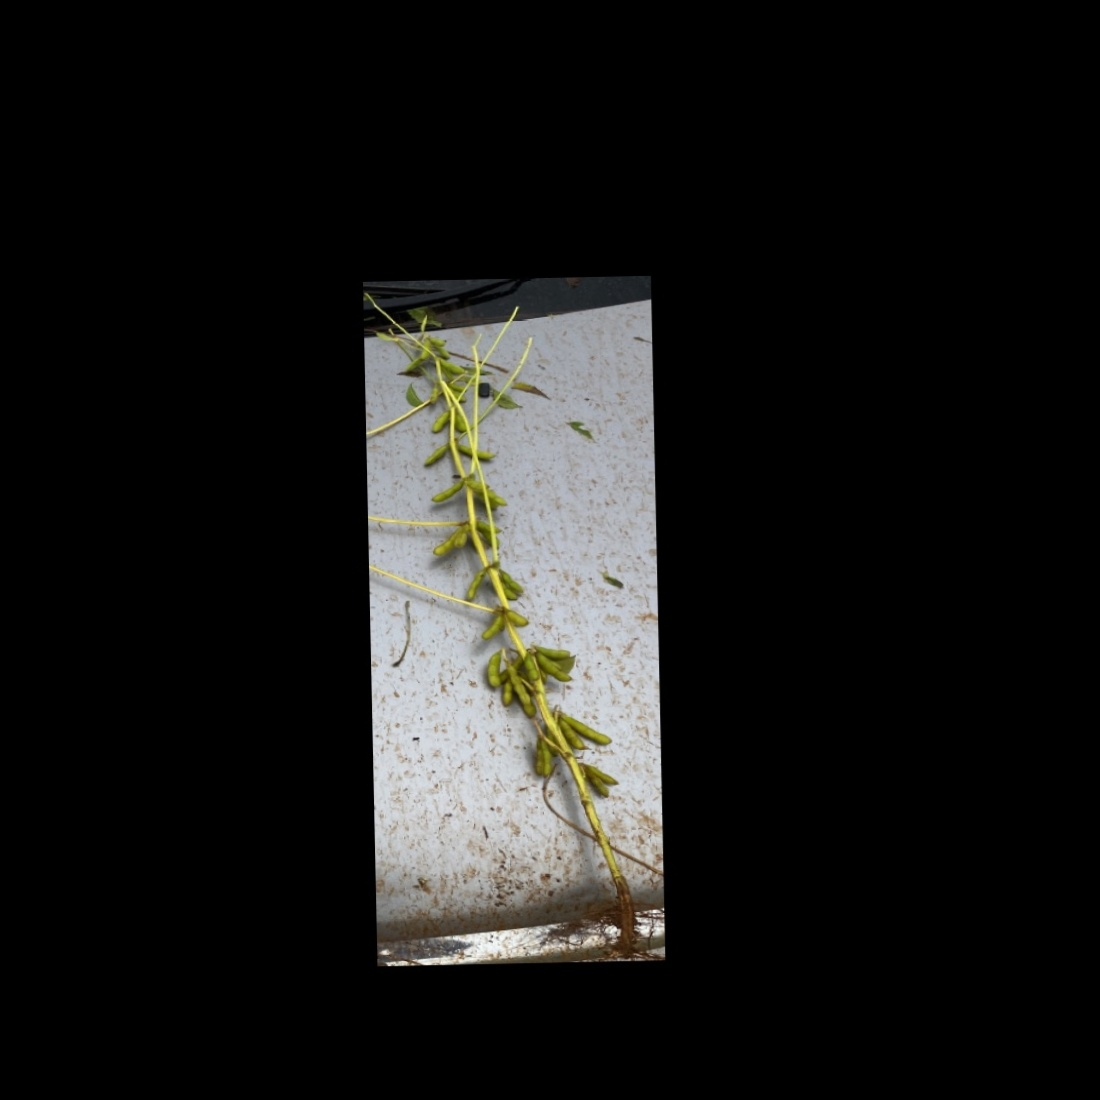pod: (428, 478, 465, 506), (452, 440, 498, 462), (422, 439, 453, 469), (462, 568, 487, 604), (422, 407, 450, 436), (478, 654, 502, 687), (518, 653, 543, 683), (482, 610, 506, 641), (491, 581, 521, 604)
soy: (374, 311, 642, 897)
